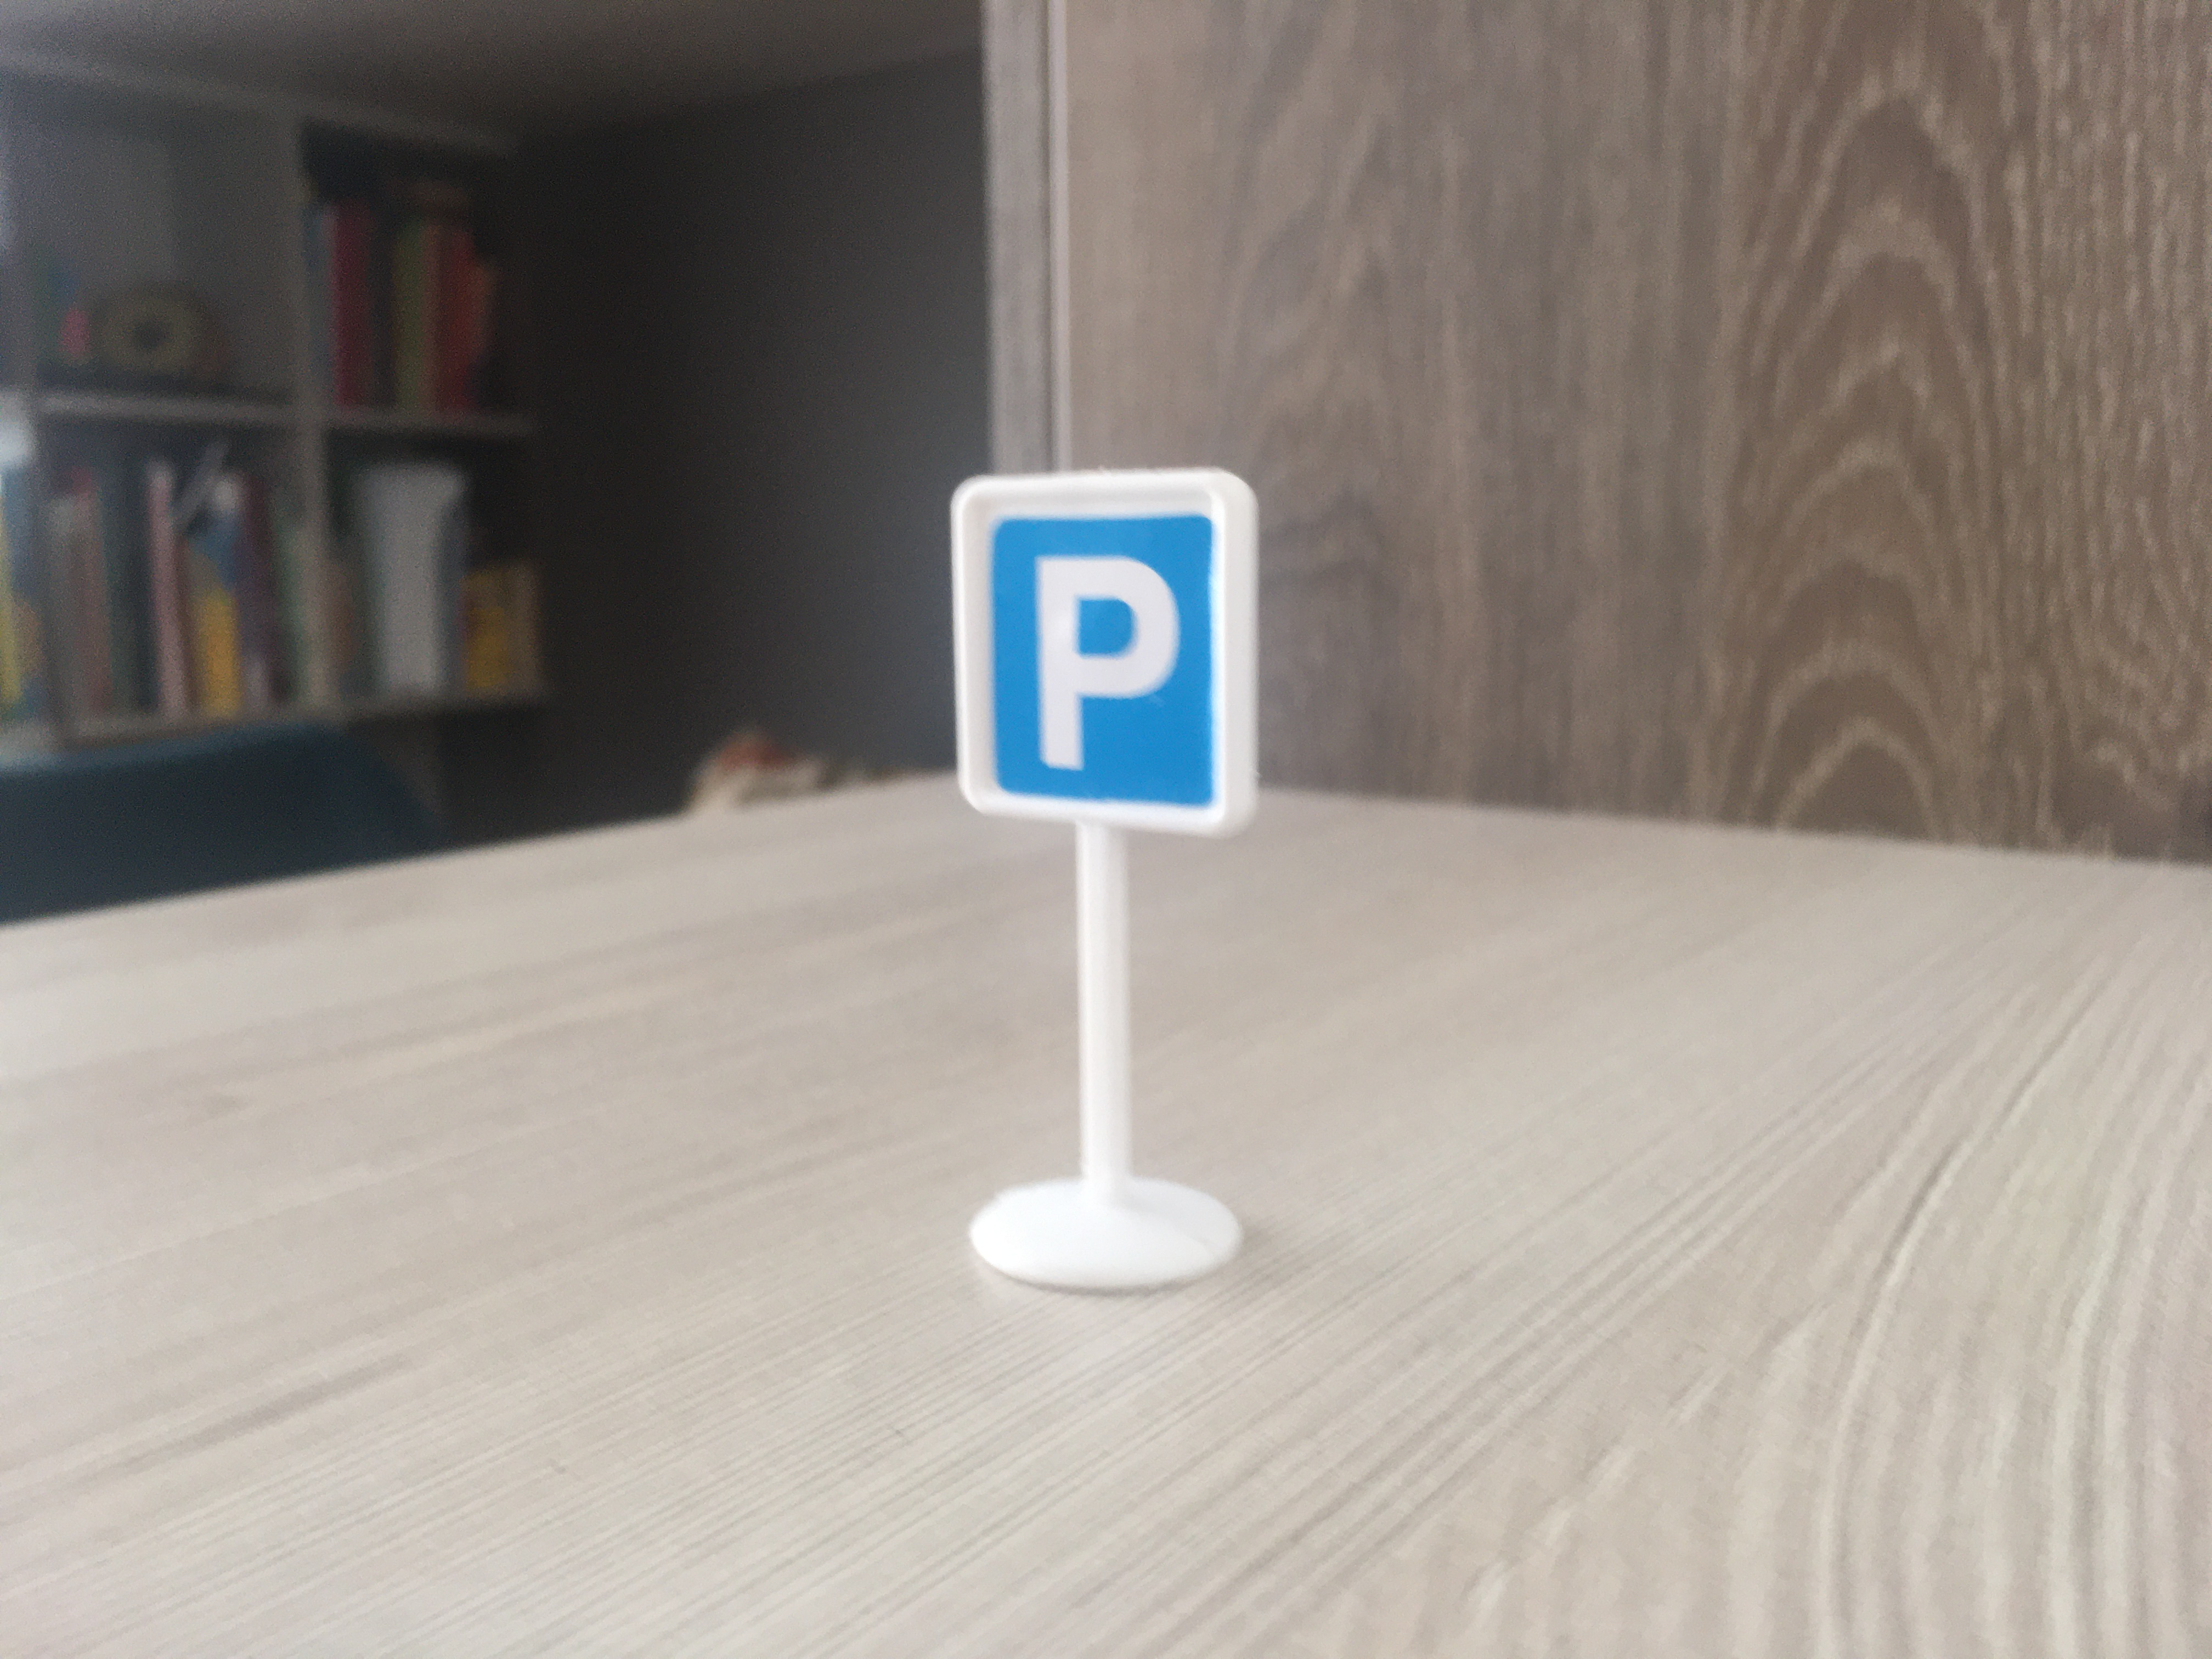parking: (942, 467, 1261, 845)
